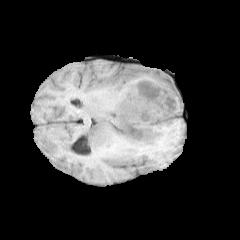glioma: (89, 66, 182, 161)
